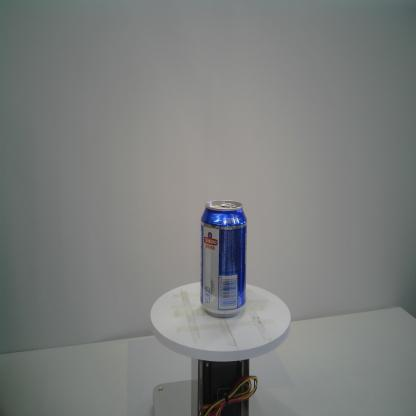Alcohol: (199, 198, 248, 318)
